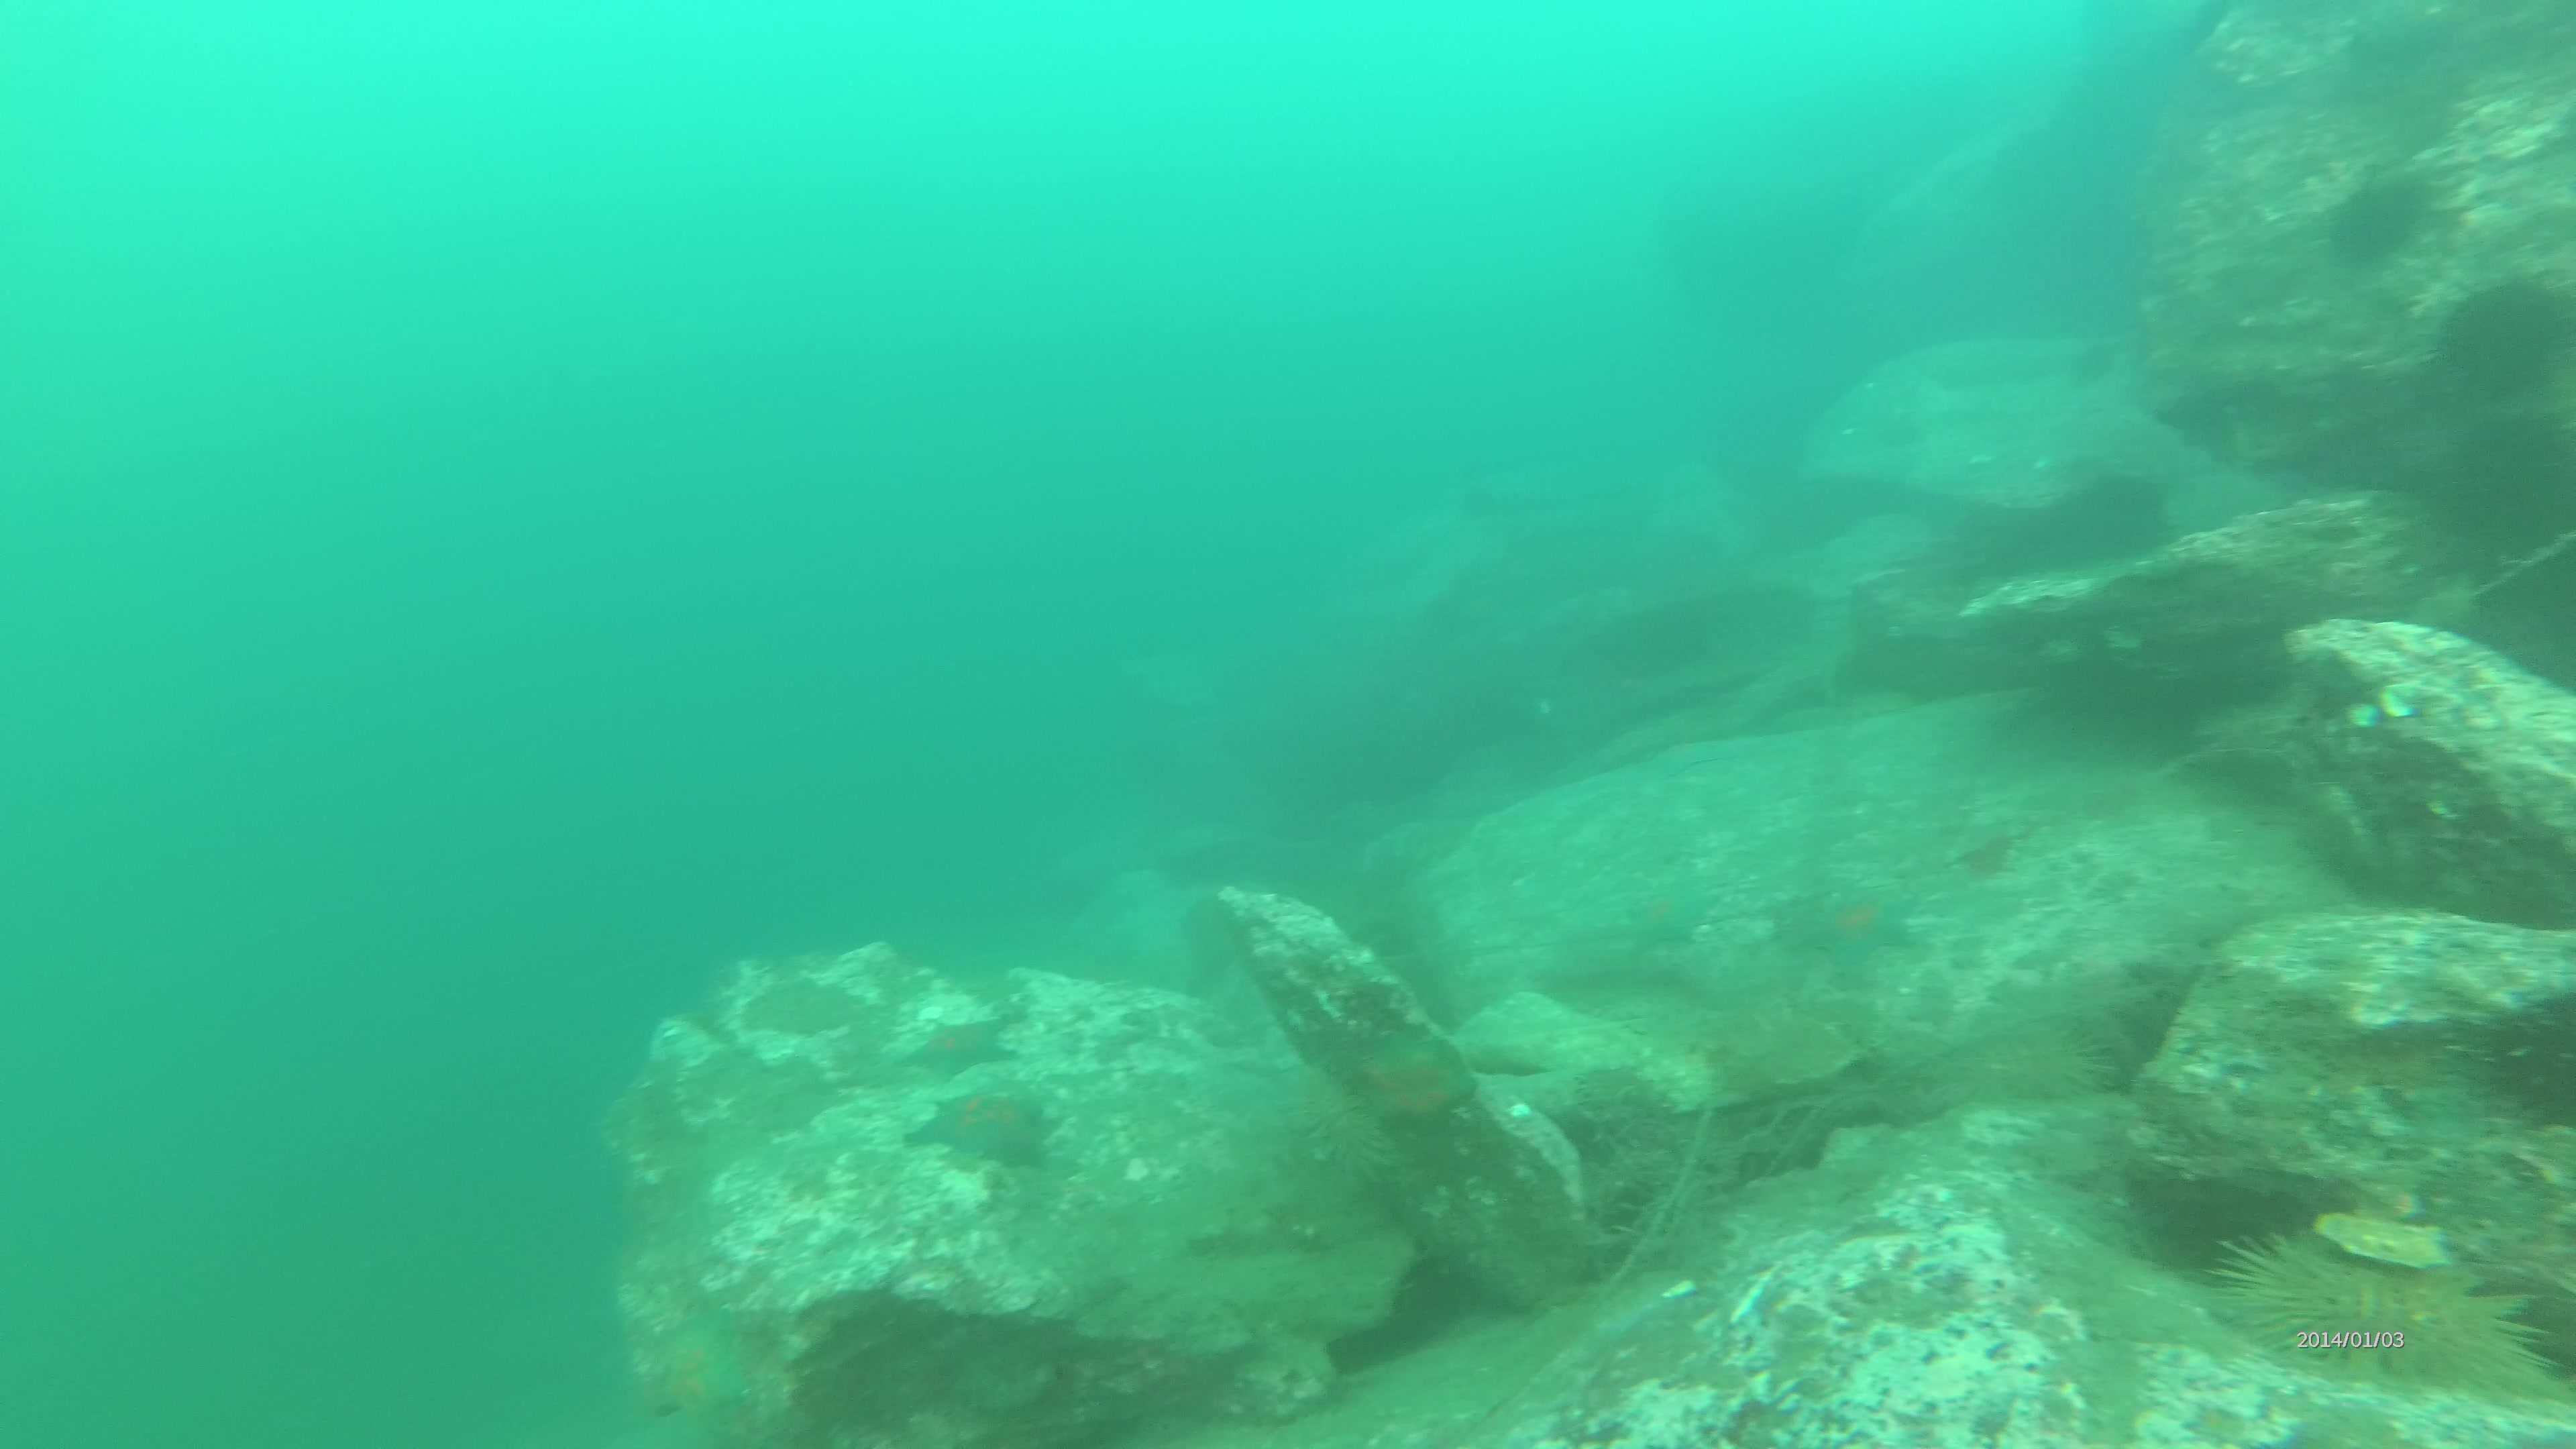echinus: (2196, 1217, 2548, 1405), (2438, 271, 2576, 396), (2323, 166, 2438, 253)
starfish: (906, 1085, 1049, 1175), (1787, 879, 1911, 978), (1361, 1040, 1468, 1136), (899, 1012, 1010, 1079), (1622, 879, 1707, 959)
